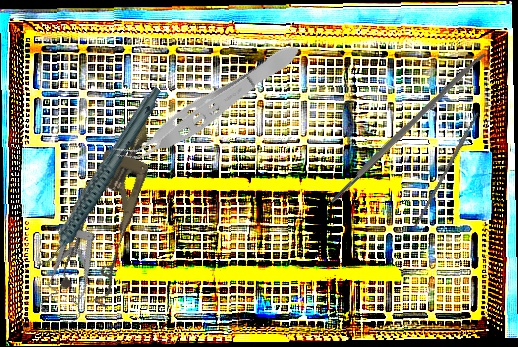Handpiece: (4, 85, 194, 272)
Scalpel Handle: (326, 49, 488, 206), (411, 111, 481, 232)
Speculum: (40, 106, 179, 309), (15, 198, 139, 332)
Tissue Forceps: (109, 33, 308, 179)
